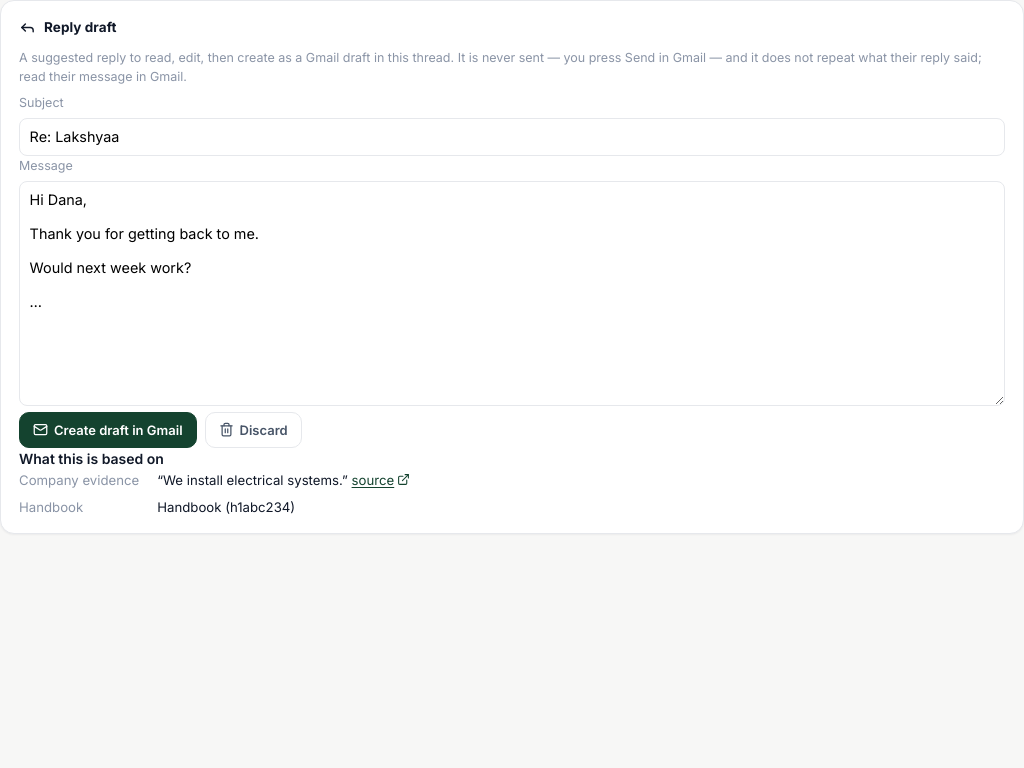
Test: the reply candidate › shows the server's reason when the draft is refused
Click the button "Create draft in Gmail": (108, 430) [19,412,197,448]
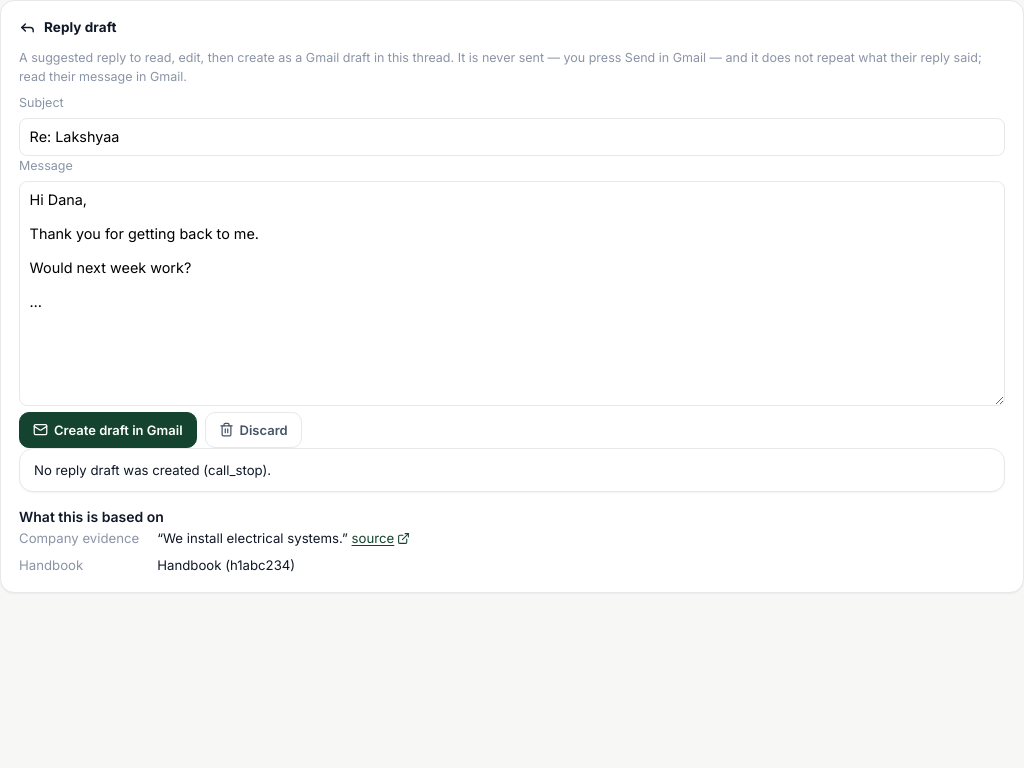
Check: the text "No reply draft was created (call_stop)." is shown, box [34,462,271,478]
